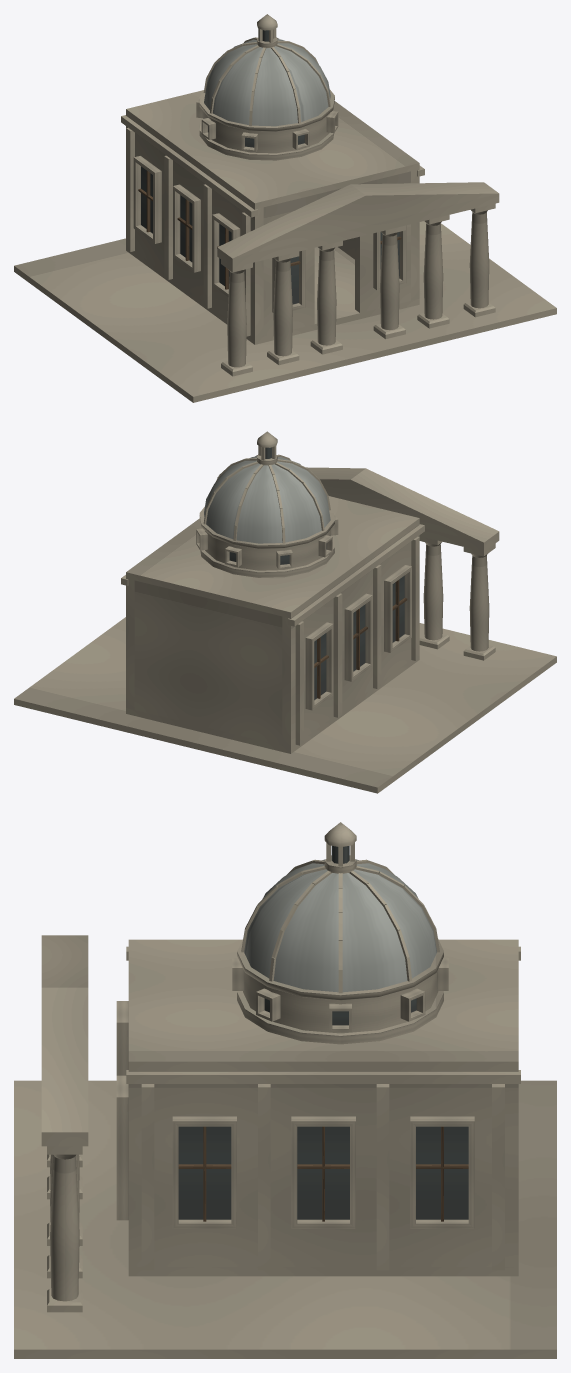
Rendered from vatican-city.glb.
The picture shows the model from 3 angles, top to bottom: view 1: azimuth 30°, elevation 25°; view 2: azimuth 150°, elevation 25°; view 3: azimuth 270°, elevation 25°; orthographic projection. The views are drawn at different scales.
Parts seen in each view (by area): view 1: vatican-city; view 2: vatican-city; view 3: vatican-city.
Boxes of the visible parts, left/top/right/bottom form: vatican-city: left=14, top=14, right=556, bottom=402; vatican-city: left=14, top=431, right=556, bottom=793; vatican-city: left=14, top=822, right=556, bottom=1358.
Bounding box in the file's own units: 7.5 × 5.23 × 6.4.
1 material, 1 textured.
